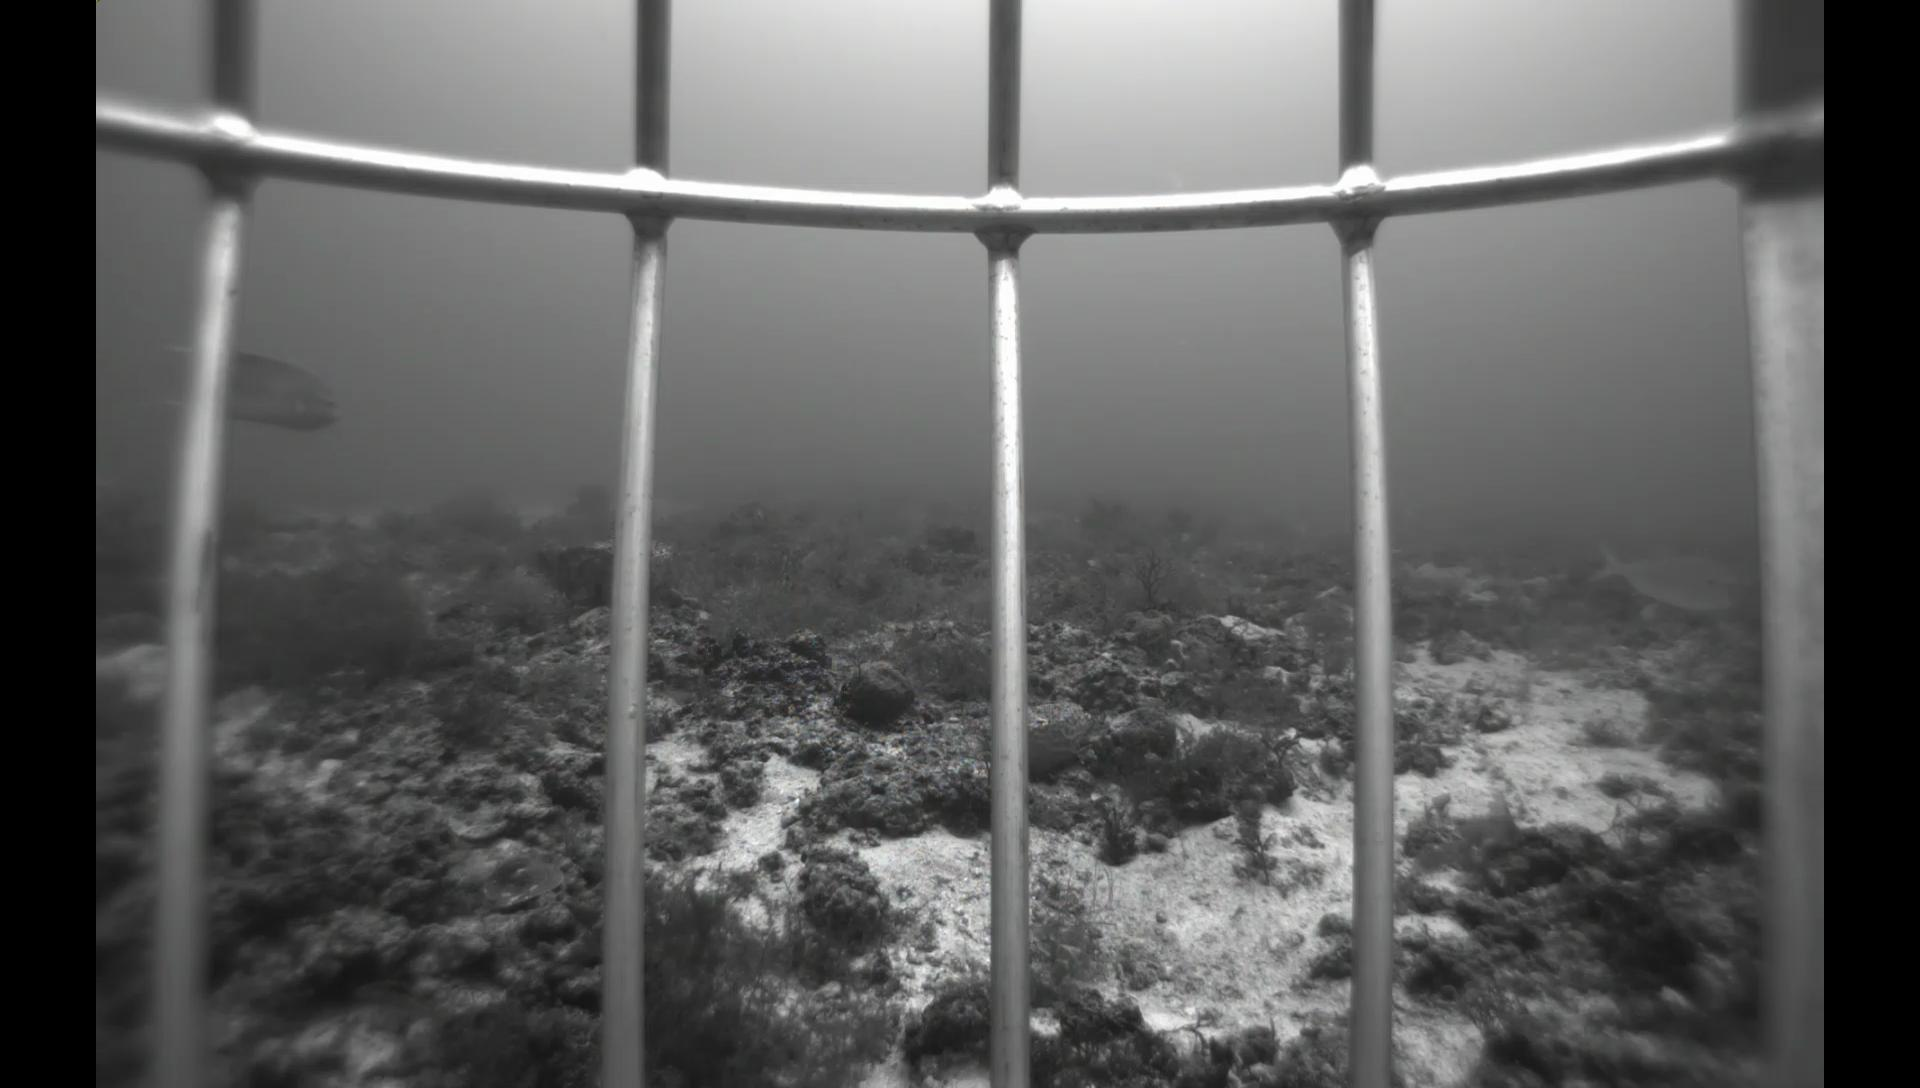CALAMUSNODOSUS-170210608: (1582, 528, 1753, 619)
HOLACANTHUSBERMUDENSIS-170290102: (153, 332, 356, 440)
SERRANUSANNULARIS-170024201: (349, 972, 455, 1030)
